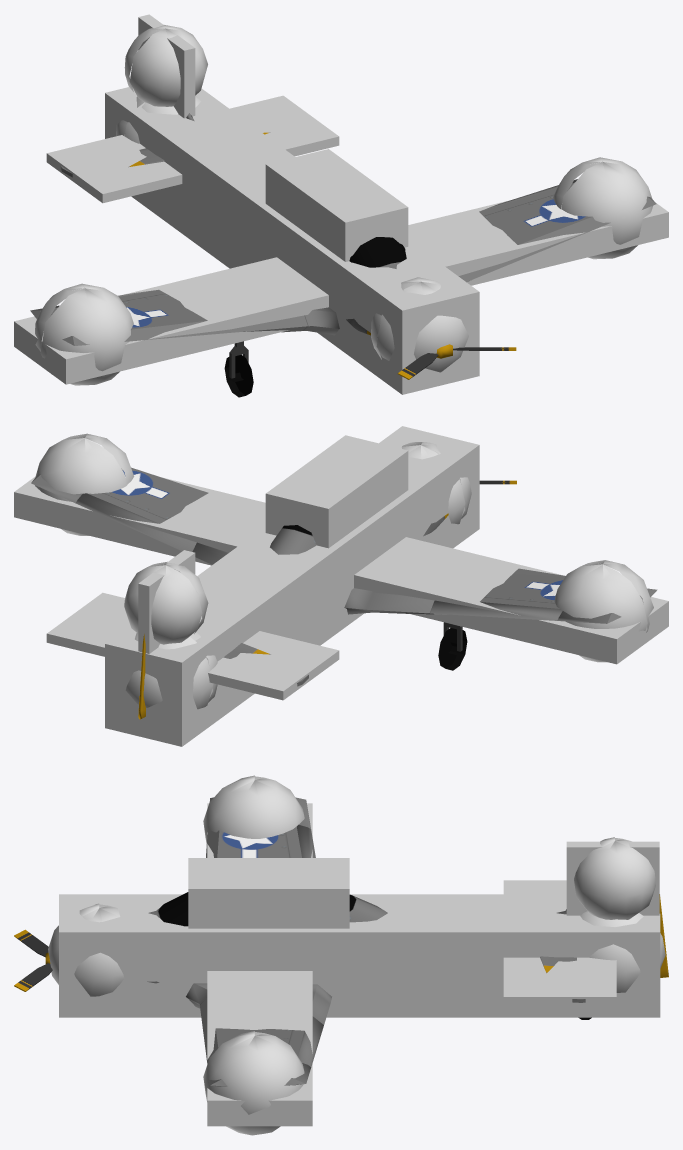
Rendered from airplane-ww2-collision-scaled.glb.
The picture shows the model from 3 angles, top to bottom: view 1: azimuth 30°, elevation 25°; view 2: azimuth 150°, elevation 25°; view 3: azimuth 270°, elevation 25°; orthographic projection.
Visible parts, largest first — view 1: Cube.008, Cube.013, fuz, Cube.009, Cube.011, Sphere.002, Sphere.003, Sphere.004, Sphere.001, Cube.010, prop, wheel1 (+1 smaller); view 2: Cube.008, Cube.013, Cube.009, fuz, Cube.011, Sphere.002, Sphere.003, Sphere.004, Sphere.000, Cube.010, aeriL, aeirR (+2 smaller); view 3: Cube.008, Cube.009, Cube.013, fuz, Cube.011, Sphere.003, Sphere.004, Sphere.002, Sphere.001, Cube.010, Sphere.000, prop (+1 smaller).
Boxes of the visible parts, box(x1,y1,x2,y2) form: Cube.008: box(105, 87, 479, 394); Cube.013: box(14, 200, 668, 384); fuz: box(30, 113, 656, 378); Cube.009: box(265, 149, 408, 261); Cube.011: box(46, 95, 339, 203); Sphere.002: box(35, 283, 133, 385); Sphere.003: box(553, 157, 652, 259); Sphere.004: box(124, 25, 207, 106); Sphere.001: box(371, 277, 468, 372); Cube.010: box(138, 14, 195, 118); prop: box(397, 344, 516, 379); wheel1: box(224, 354, 253, 397); Cube.008: box(105, 426, 479, 746); Cube.013: box(14, 476, 668, 664); Cube.009: box(265, 435, 408, 548); fuz: box(31, 467, 657, 686); Cube.011: box(46, 592, 339, 700); Sphere.002: box(554, 560, 653, 662); Sphere.003: box(35, 433, 134, 535); Sphere.004: box(124, 561, 208, 644); Sphere.000: box(125, 631, 217, 709); Cube.010: box(138, 550, 195, 653); aeriL: box(76, 493, 196, 551); aeirR: box(430, 600, 562, 620); Cube.008: box(59, 894, 660, 1017); Cube.009: box(188, 858, 349, 928); Cube.013: box(207, 803, 312, 1126); fuz: box(147, 797, 585, 1086); Cube.011: box(503, 880, 616, 1006); Sphere.003: box(203, 1031, 304, 1135); Sphere.004: box(574, 837, 655, 919); Sphere.002: box(203, 775, 304, 843); Sphere.001: box(48, 903, 124, 996); Cube.010: box(566, 841, 659, 915); Sphere.000: box(580, 911, 665, 992); prop: box(14, 929, 52, 991).
Bounding box in the file's own units: 3.28 × 1.08 × 3.03.
4 materials, 1 textured.
